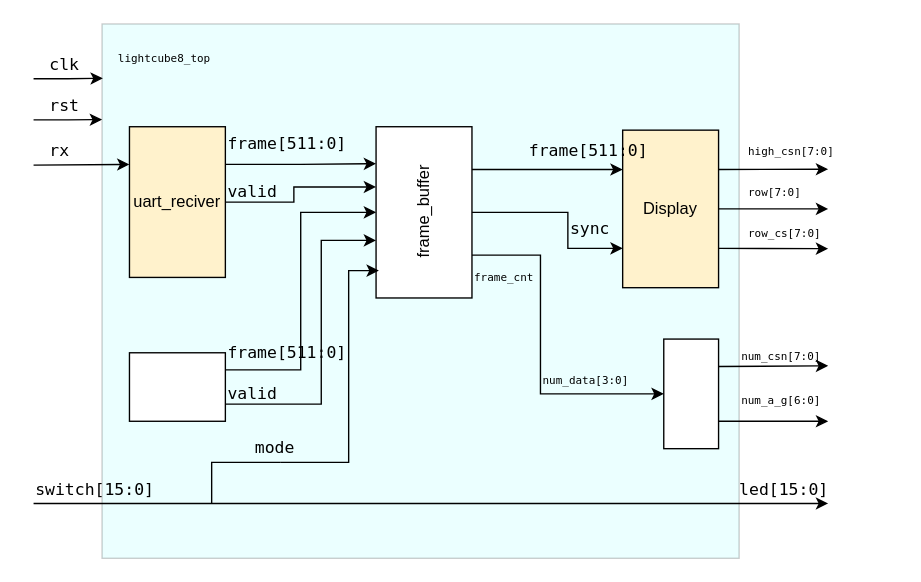
Some shapes in this 921 by 582 pixel diagram are drawn without their labels. Each missing label, with the centre of its shape:
"frame_gen" goes at (x=176, y=386).
"seg7" goes at (x=690, y=393).
